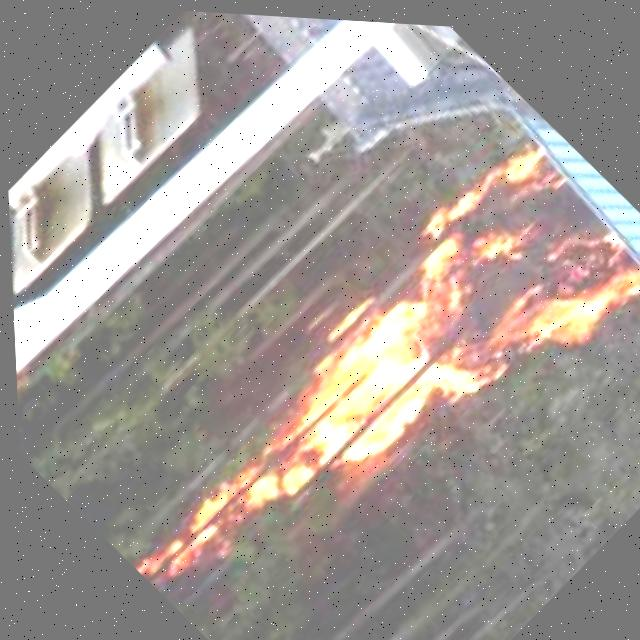Fire: (92, 105, 640, 640)
